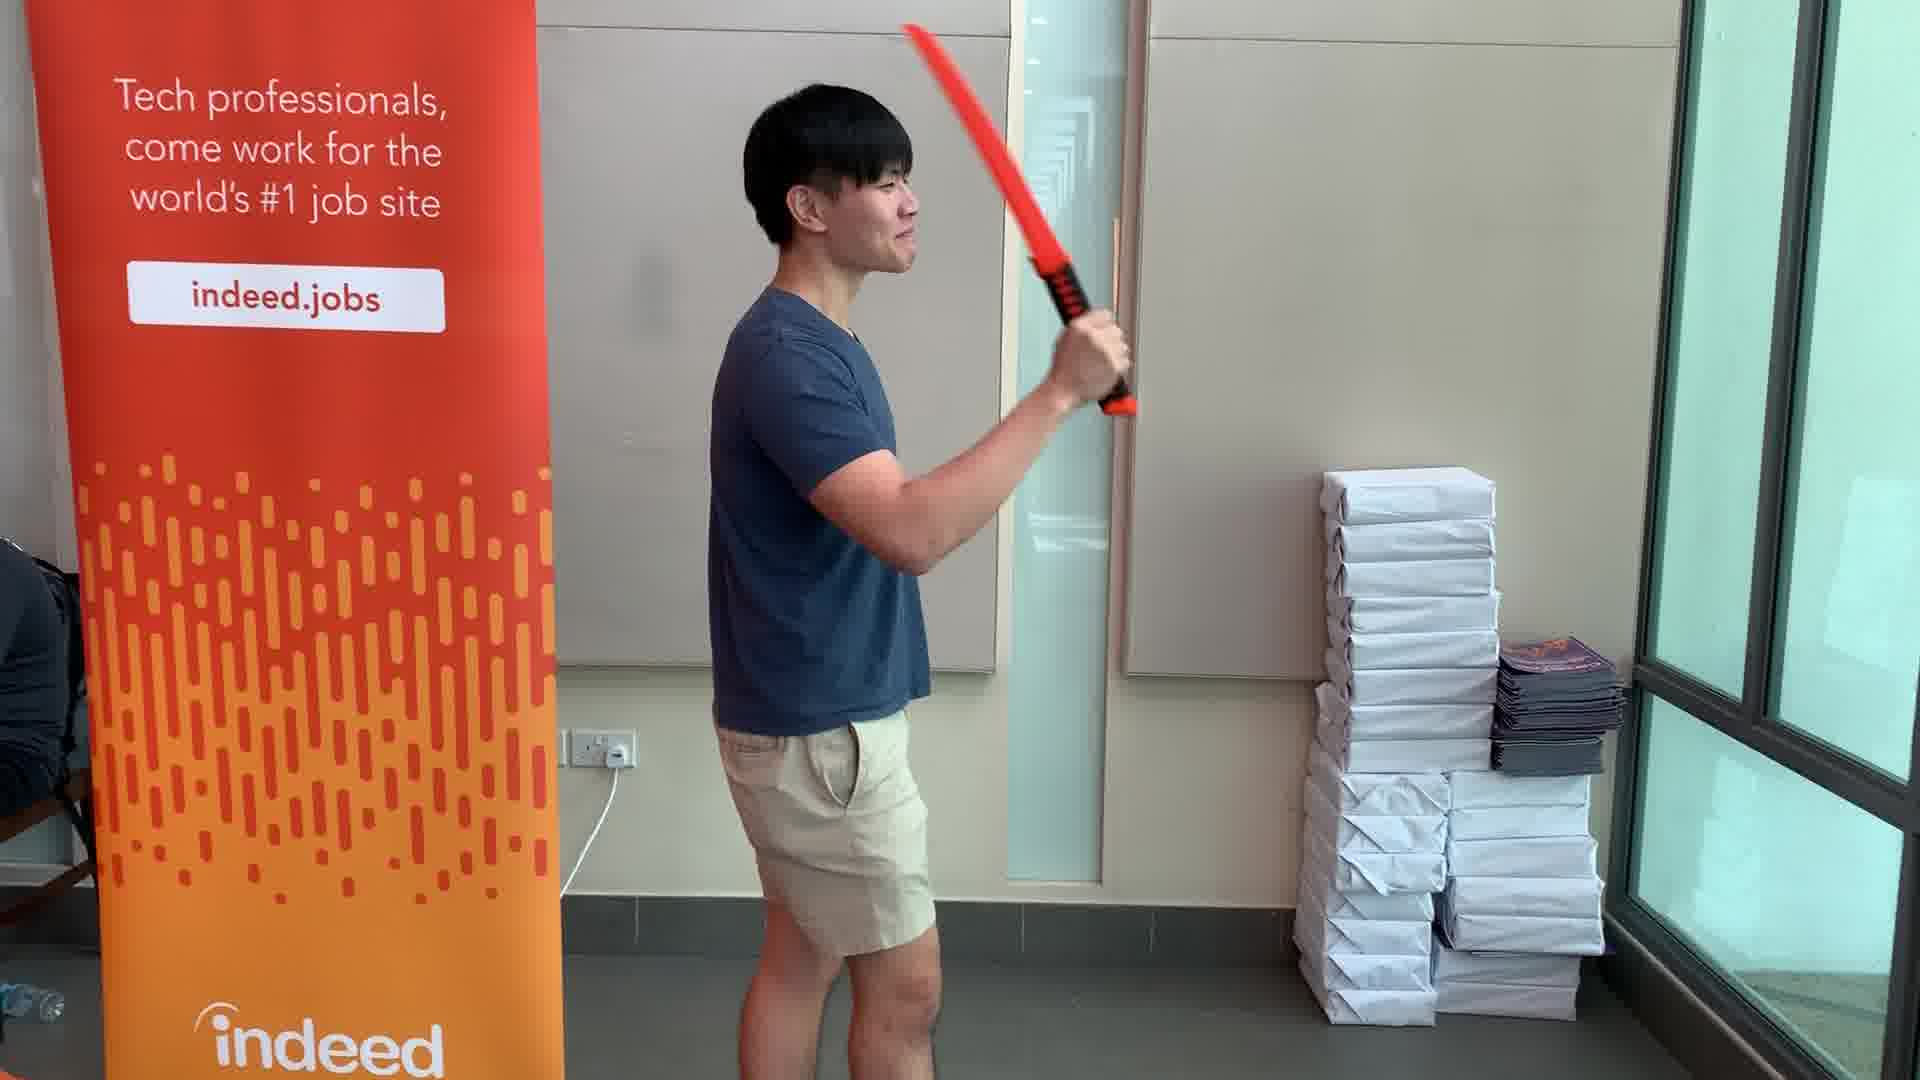knife: (898, 15, 1153, 429)
